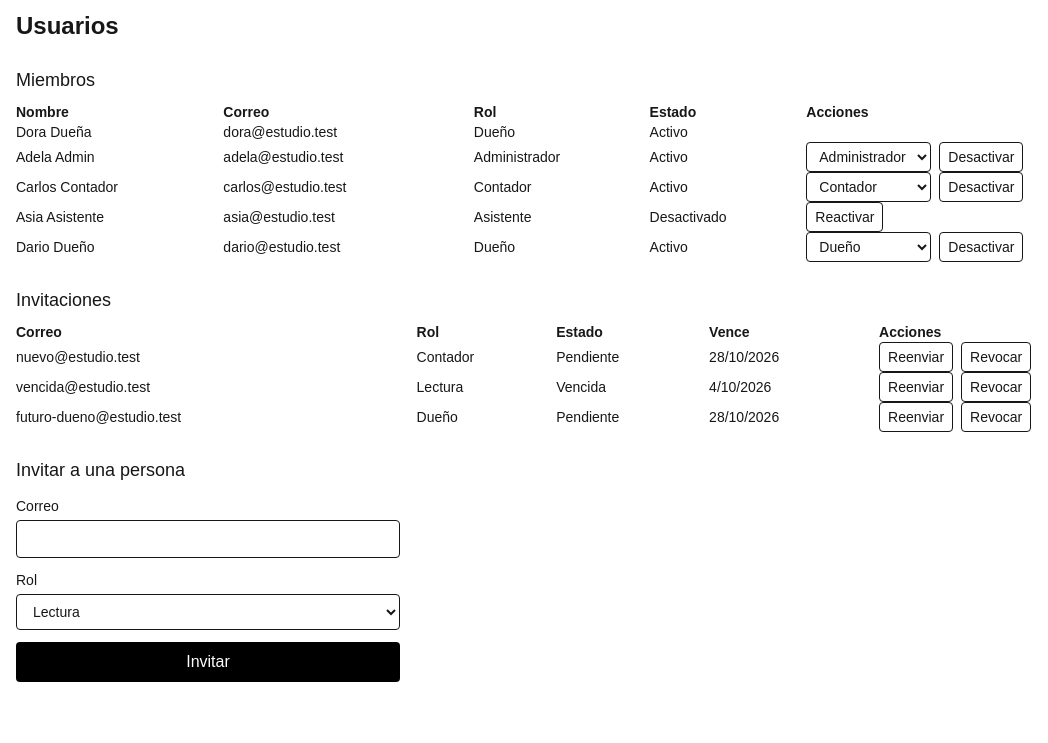
Test case: /usuarios › invitar: 409 cupo_usuarios → su mensaje
This screenshot has width=1048, height=743.
In the field labelled "Correo": (208, 539) [16,520,400,558], type "otra@estudio.test"
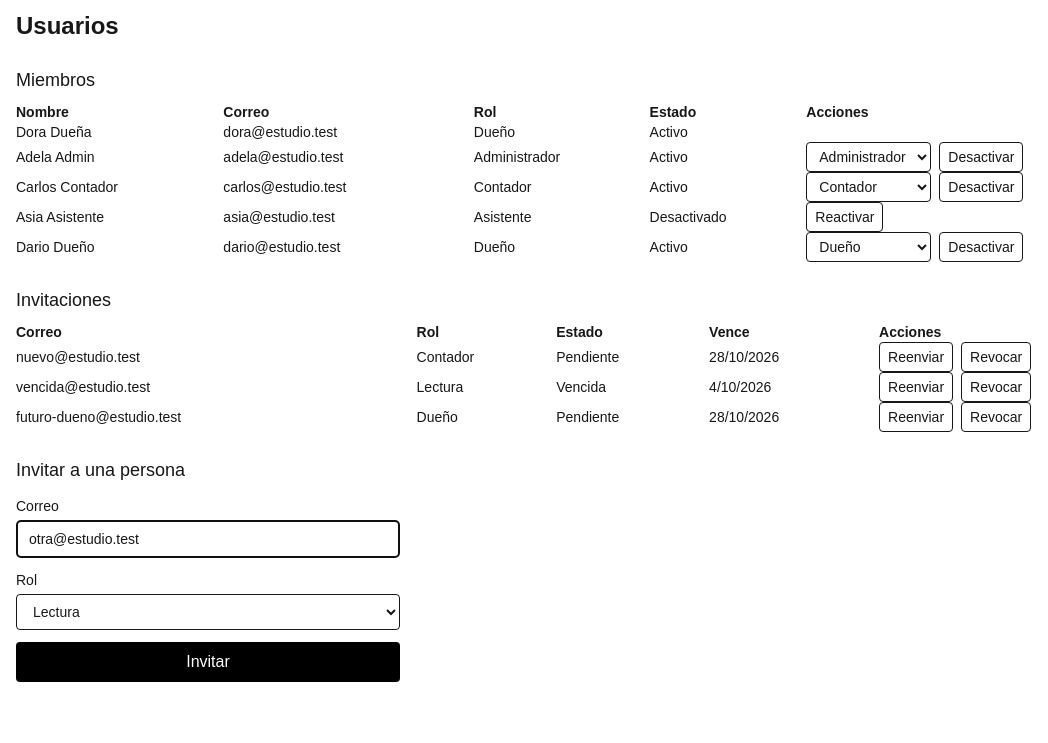
Click the button "Invitar": (208, 662) [16,642,400,682]
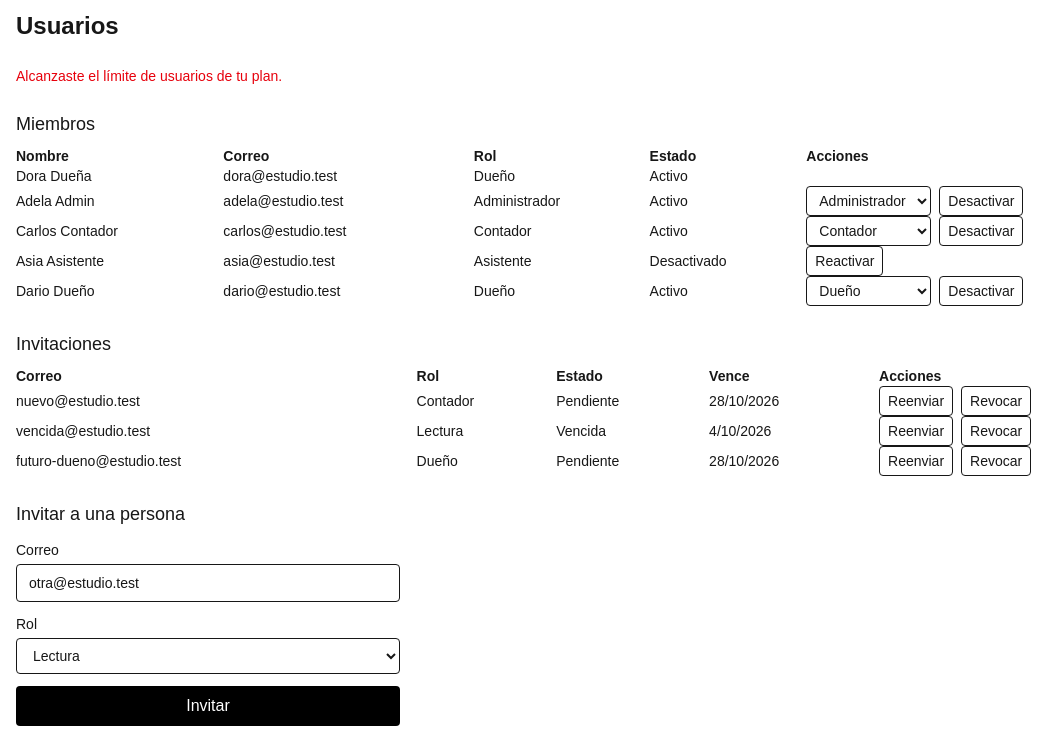
Expected: the text "Alcanzaste el límite de usuarios de tu plan." is shown, [16,68,282,84]
